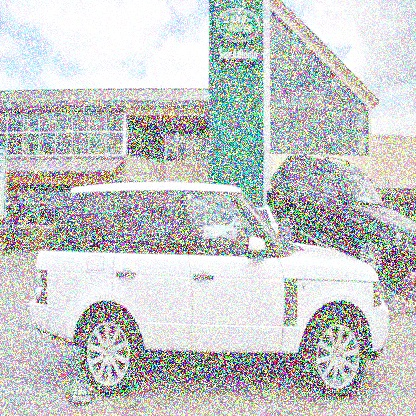Vehicle: (30, 184, 390, 398)
